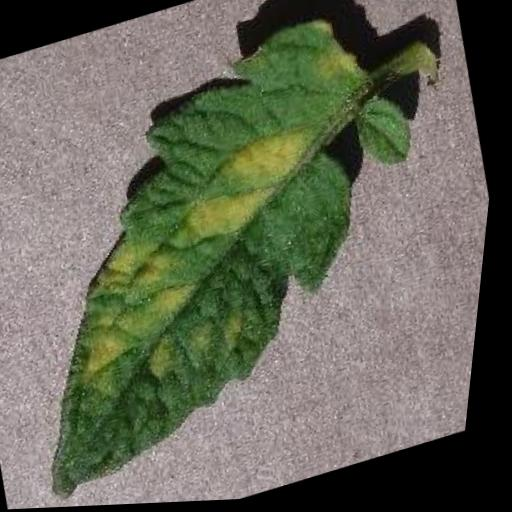Leaf Mold: (0, 4, 461, 509)
